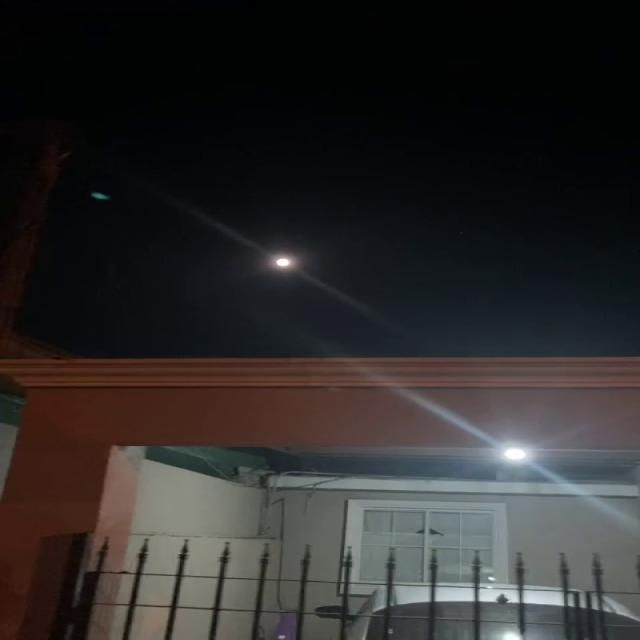moon: (271, 244, 306, 273)
